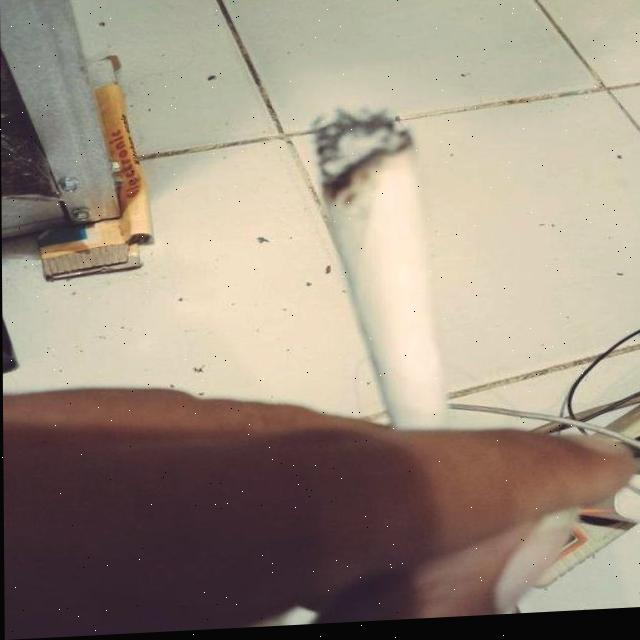cigarette: (308, 116, 456, 441)
